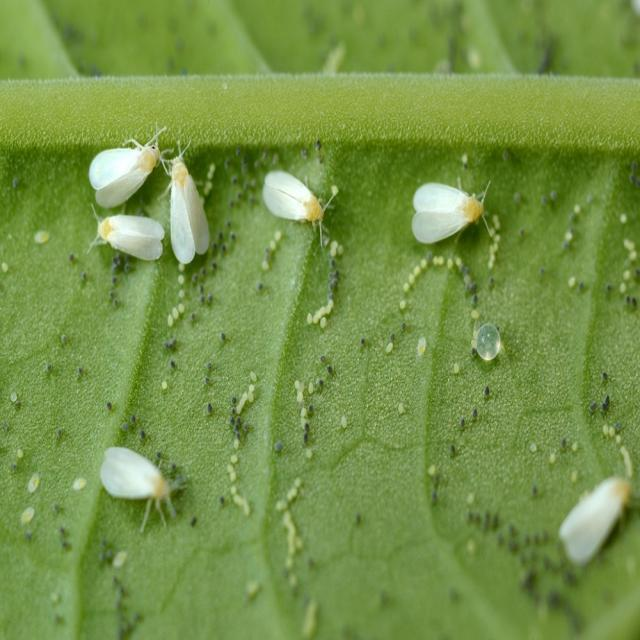Whitefly: (79, 136, 219, 300), (83, 434, 195, 544), (545, 461, 640, 584), (257, 136, 342, 254), (406, 169, 506, 259)
